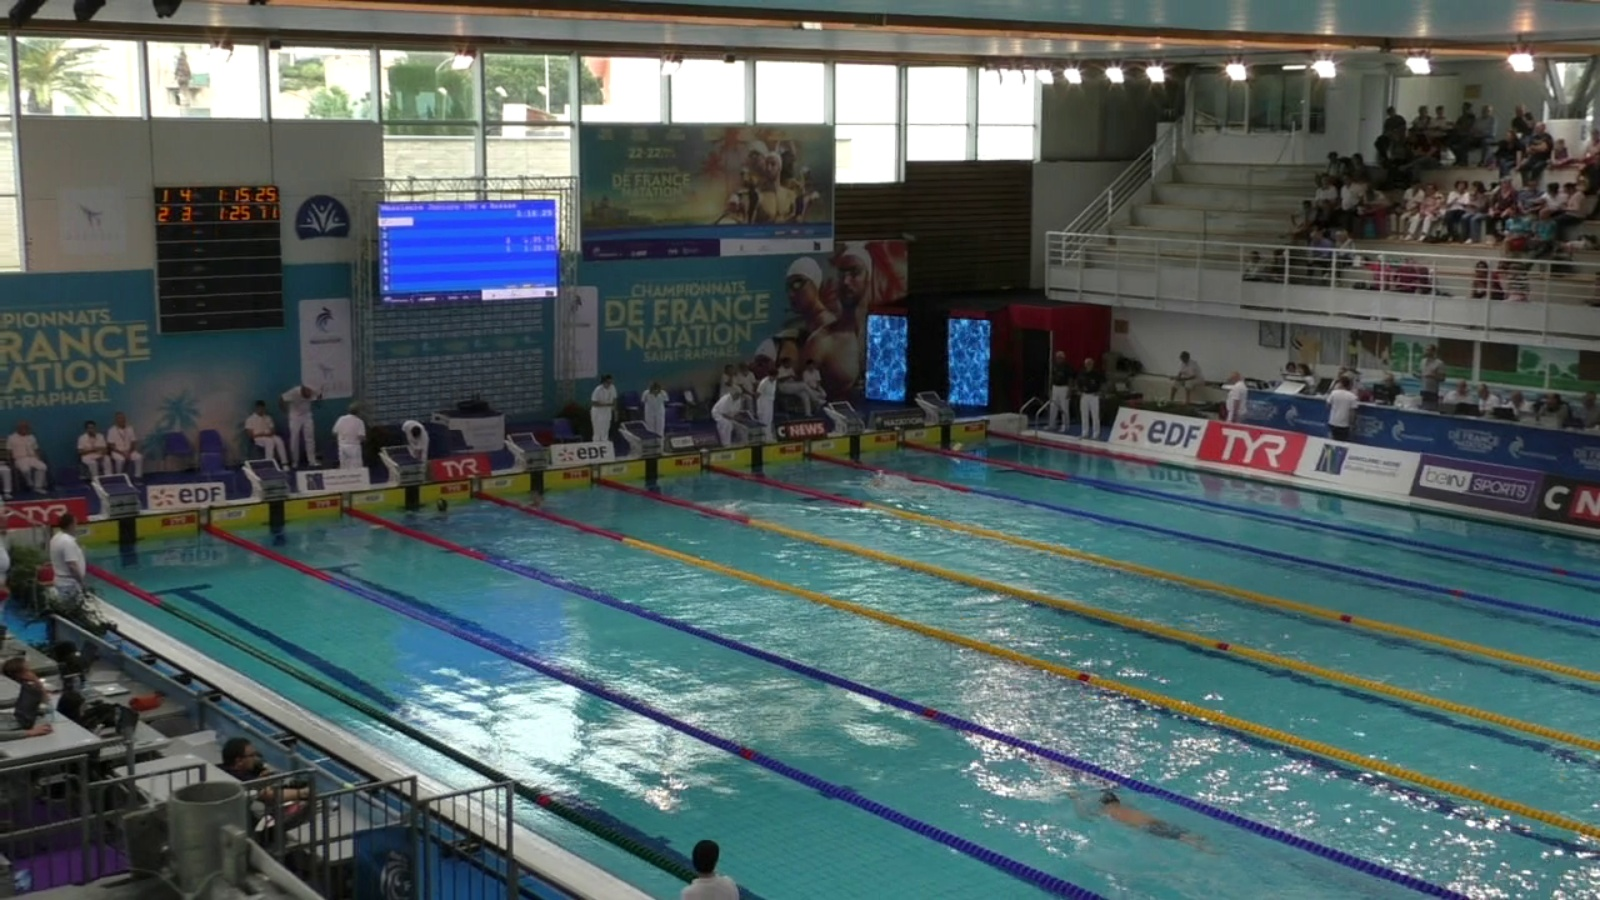swimmerw: (1055, 773, 1225, 867), (859, 473, 935, 505), (508, 487, 557, 520), (697, 497, 752, 525), (416, 497, 462, 531)
